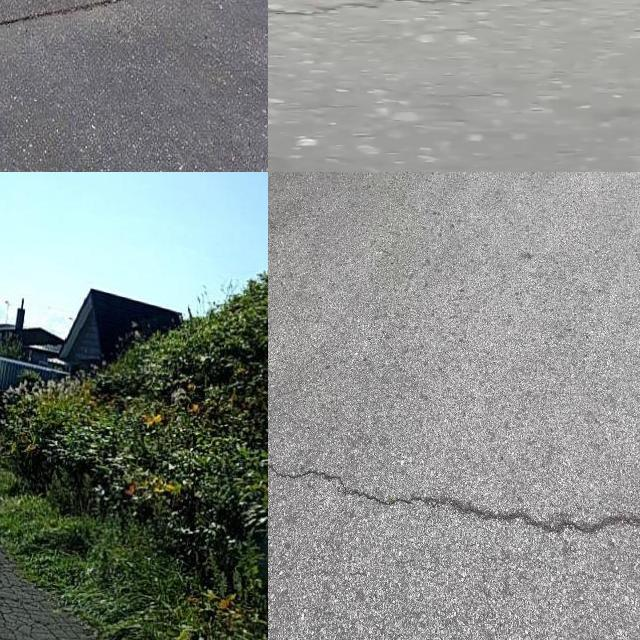Melintang: (268, 439, 640, 547), (268, 0, 640, 31)
